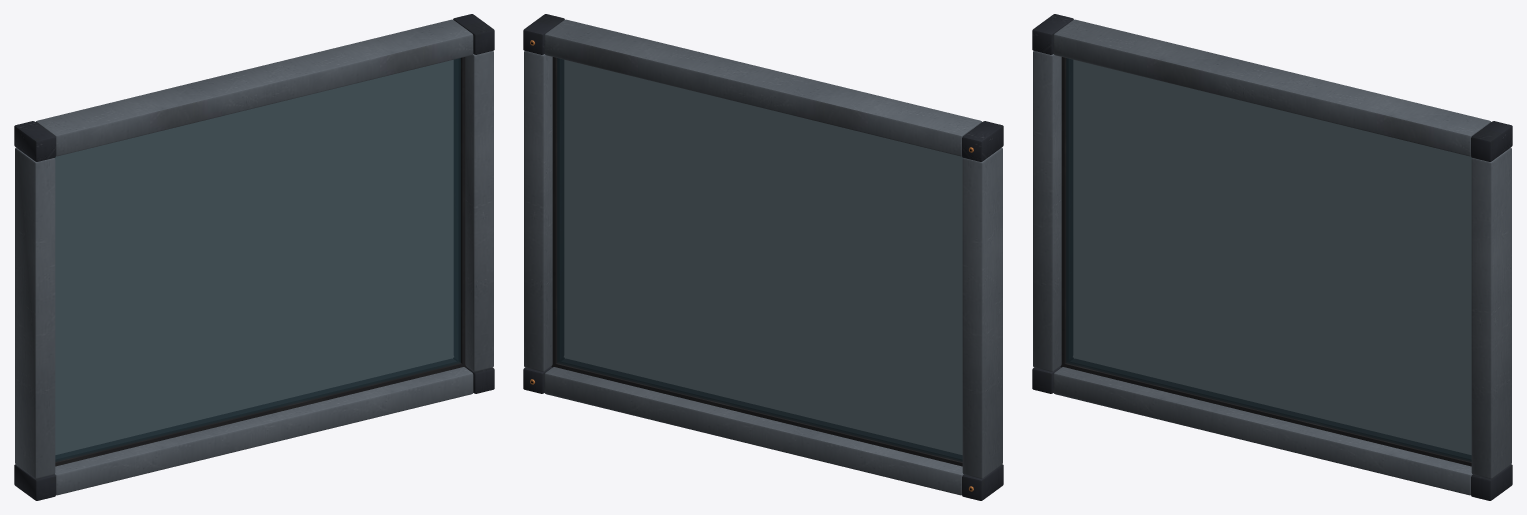
Rendered from side_window.glb.
The picture shows the model from 3 angles, left to right: view 1: azimuth 30°, elevation 25°; view 2: azimuth 150°, elevation 25°; view 3: azimuth 330°, elevation 25°; orthographic projection.
Parts seen in each view (by area): view 1: SideWindowMesh; view 2: SideWindowMesh; view 3: SideWindowMesh.
Boxes of the visible parts, x1=… form: SideWindowMesh: x1=14, y1=14, x2=494, y2=500; SideWindowMesh: x1=523, y1=14, x2=1003, y2=500; SideWindowMesh: x1=1032, y1=14, x2=1512, y2=500.
Bounding box in the file's own units: 1 × 0.75 × 0.0888.
Materials: 6 (4 with a texture image).
